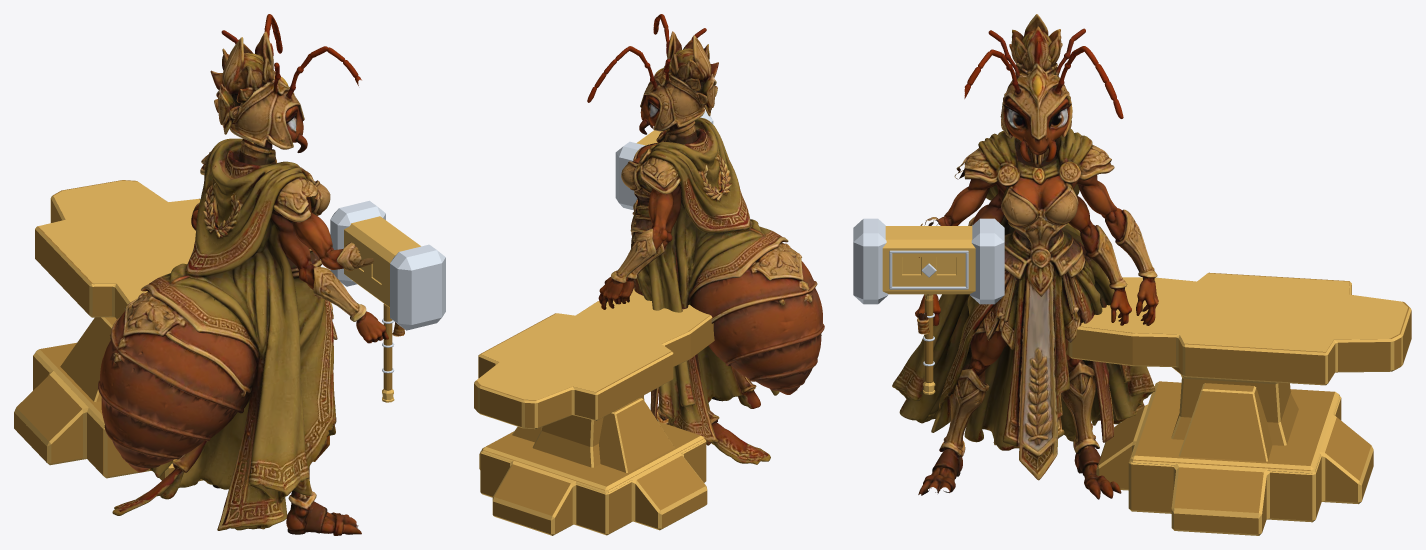
The model's file is queen_yellow.glb.
3 views of the same model, side by side, from view 1: azimuth 30°, elevation 25°; view 2: azimuth 150°, elevation 25°; view 3: azimuth 270°, elevation 25° (orthographic). The views are drawn at different scales.
Parts seen in each view (by area): view 1: node_829f3283-8135-4959-af35-5a2a925ba8d4, Central forged block, Straight brown textured grip, Left massive striking end; view 2: node_829f3283-8135-4959-af35-5a2a925ba8d4, Straight brown textured grip, Central forged block, Left massive striking end; view 3: node_829f3283-8135-4959-af35-5a2a925ba8d4, Straight brown textured grip, Central forged block, Left massive striking end.
Part boxes in pixels (bbox=[...]): node_829f3283-8135-4959-af35-5a2a925ba8d4: bbox=[98, 14, 404, 535]; Central forged block: bbox=[14, 180, 420, 480]; Straight brown textured grip: bbox=[14, 180, 392, 480]; Left massive striking end: bbox=[330, 200, 445, 373]; node_829f3283-8135-4959-af35-5a2a925ba8d4: bbox=[587, 14, 824, 464]; Straight brown textured grip: bbox=[474, 301, 714, 534]; Central forged block: bbox=[474, 130, 712, 535]; Left massive striking end: bbox=[615, 111, 713, 210]; node_829f3283-8135-4959-af35-5a2a925ba8d4: bbox=[892, 14, 1158, 499]; Straight brown textured grip: bbox=[924, 272, 1411, 534]; Central forged block: bbox=[882, 226, 1411, 535]; Left massive striking end: bbox=[853, 218, 1004, 366].
Bounding box in the file's own units: 0.6227 × 0.9869 × 1.09.
4 materials, 1 textured.
